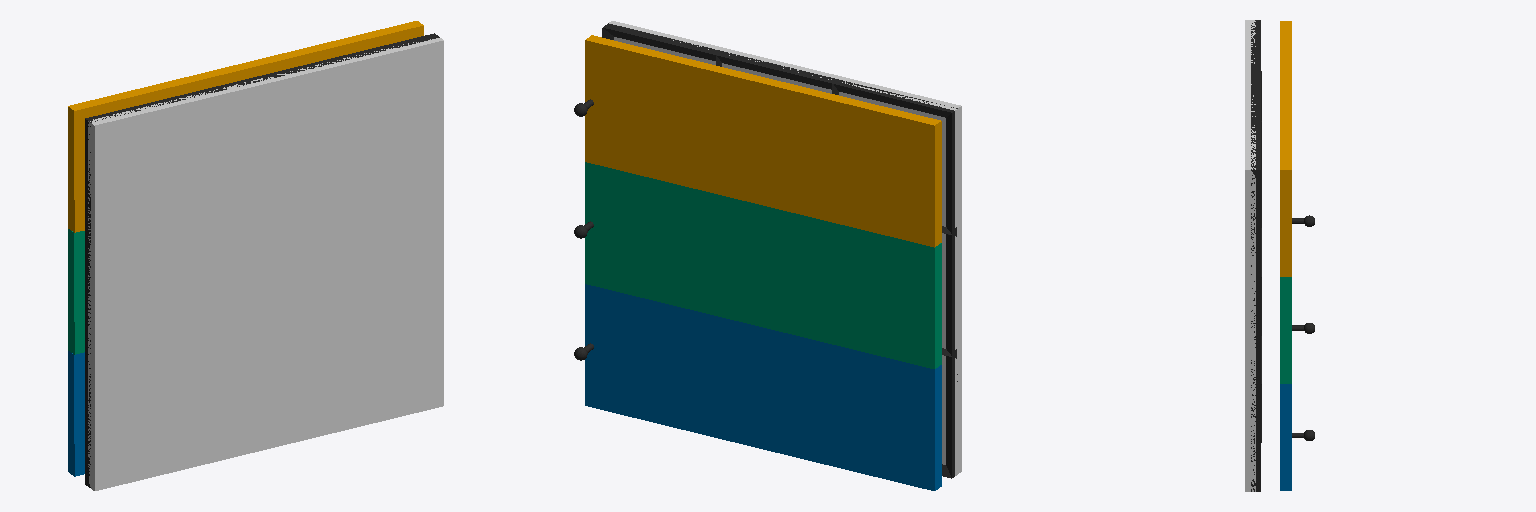
The robot description file, URDF, robot "match_board":
<?xml version="0.0" ?>
<robot name="match_board">
    <material name="GREY">
        <color rgba="0.85 0.85 0.85 1"/>
    </material>
    <material name="WOOD">
        <!-- color rgba="0.905, 0.819, 0.701, 1"-->
        <color rgba="0.866, 0.725, 0.529, 1"/>
    </material>
    <material name="RED">
        <color rgba="0.85 0 0 1"/>
    </material>
    <material name="GREEN">
        <color rgba="0 0.85 0 1"/>
    </material>
    <material name="BLUE">
        <color rgba="0 0 0.85 1"/>
    </material>
    <material name="BLACK">
        <color rgba="0.2 0.2 0.2 1"/>
    </material>

    <link name="baseLink">
        <inertial>
            <!--      tours: 30, 8-->
            <!--      major radius: 0.02, minor radius: 0.0005-->
            <!--      vis: radius=0.02, in radius=0.0005-->
            <!--      col: radius=0.02, in radius=0.0006-->
            <!--      center of mass: 2*R/pi; important-->
            <origin rpy="0 0 0" xyz="0 0 0"/>
            <mass value="0.05"/>
            <inertia ixx="0." ixy="0" ixz="0" iyy="0." iyz="0" izz="0."/>
        </inertial>
        <visual>
            <origin rpy="0 0 0" xyz="0 0 0"/>
            <geometry>
                <mesh filename="meshes/board.obj" scale="0.05 0.05 0.05"/>
            </geometry>
            <material name="GREY"/>
        </visual>
        <collision>
            <origin rpy="0 0 0" xyz="0 0 0"/>
            <geometry>
                <mesh filename="meshes/board.obj" scale="0.05 0.05 0.05"/>
            </geometry>
        </collision>
    </link>

    <link name="upper_left_0">
        <inertial>
            <origin rpy="0 0 0" xyz="0 0 0"/>
            <mass value="0.05"/>
            <inertia ixx="0." ixy="0" ixz="0" iyy="0." iyz="0" izz="0."/>
        </inertial>
        <visual>
            <origin rpy="0 0 0" xyz="0 0 0"/>
            <geometry>
                <mesh filename="meshes/board.obj" scale="0.05 0.05 0.05"/>
            </geometry>
            <material name="GREY"/>
        </visual>
        <collision>
            <origin rpy="0 0 0" xyz="0 0 0"/>
            <geometry>
                <mesh filename="meshes/board.obj" scale="0.05 0.05 0.05"/>
            </geometry>
        </collision>
    </link>

    <joint name="upper_left_joint_0" type="fixed">
        <parent link="baseLink"/>
        <child link="upper_left_0"/>
        <!--    (-sqrt(2)R/2, -sqrt(2)R/2, 0)-->
        <origin rpy="0 0 0" xyz="-0.1 0 -0.1"/>
    </joint>

    <link name="upper_1">
        <inertial>
            <origin rpy="0 0 0" xyz="0 0 0"/>
            <mass value="0.05"/>
            <inertia ixx="0." ixy="0" ixz="0" iyy="0." iyz="0" izz="0."/>
        </inertial>
        <visual>
            <origin rpy="0 0 0" xyz="0 0 0"/>
            <geometry>
                <mesh filename="meshes/board.obj" scale="0.05 0.05 0.05"/>
            </geometry>
            <material name="GREY"/>
        </visual>
        <collision>
            <origin rpy="0 0 0" xyz="0 0 0"/>
            <geometry>
                <mesh filename="meshes/board.obj" scale="0.05 0.05 0.05"/>
            </geometry>
        </collision>
    </link>

    <joint name="upper_joint_1" type="fixed">
        <parent link="baseLink"/>
        <child link="upper_1"/>
        <!--    (-sqrt(2)R/2, -sqrt(2)R/2, 0)-->
        <origin rpy="0 0 0" xyz="0 0 -0.1"/>
    </joint>

    <link name="upper_right_2">
        <inertial>
            <origin rpy="0 0 0" xyz="0 0 0"/>
            <mass value="0.05"/>
            <inertia ixx="0." ixy="0" ixz="0" iyy="0." iyz="0" izz="0."/>
        </inertial>
        <visual>
            <origin rpy="0 0 0" xyz="0 0 0"/>
            <geometry>
                <mesh filename="meshes/board.obj" scale="0.05 0.05 0.05"/>
            </geometry>
            <material name="GREY"/>
        </visual>
        <collision>
            <origin rpy="0 0 0" xyz="0 0 0"/>
            <geometry>
                <mesh filename="meshes/board.obj" scale="0.05 0.05 0.05"/>
            </geometry>
        </collision>
    </link>

    <joint name="upper_right_joint_2" type="fixed">
        <parent link="baseLink"/>
        <child link="upper_right_2"/>
        <!--    (-sqrt(2)R/2, -sqrt(2)R/2, 0)-->
        <origin rpy="0 0 0" xyz="0.1 0 -0.1"/>
    </joint>

    <link name="upper_lid_3">
        <inertial>
            <origin rpy="0 0 0" xyz="0 0 0"/>
            <mass value="0.001"/>
            <inertia ixx="0." ixy="0" ixz="0" iyy="0." iyz="0" izz="0."/>
        </inertial>
        <visual>
            <origin rpy="0 1.57 0" xyz="0 0 0"/>
            <geometry>
                <mesh filename="meshes/lid.obj" scale="0.05 0.05 0.05"/>
            </geometry>
            <material name="WOOD"/>
        </visual>
        <collision>
            <origin rpy="0 1.57 0" xyz="0 0 0"/>
            <geometry>
                <mesh filename="meshes/lid.obj" scale="0.05 0.05 0.05"/>
            </geometry>
        </collision>
    </link>

    <joint name="upper_lid_joint_3" type="prismatic">
        <parent link="upper_right_2"/>
        <child link="upper_lid_3"/>
        <!--    (-sqrt(2)R/2, -sqrt(2)R/2, 0)-->
        <axis xyz="1 0 0"/>
        <origin rpy="0 0 0" xyz="-0.1 0.03 0"/>
        <limit effort="30" velocity="1.0" lower="0" upper="0.3" />
    </joint>

    <link name="upper_handle_4">
        <inertial>
            <origin rpy="0 0 0" xyz="0 0 0"/>
            <mass value="0.001"/>
            <inertia ixx="0." ixy="0" ixz="0" iyy="0." iyz="0" izz="0."/>
        </inertial>
        <visual>
            <origin rpy="0 0 0" xyz="0 0 0"/>
            <geometry>
                <mesh filename="meshes/lid_handle.obj" scale="0.05 0.05 0.05"/>
            </geometry>
            <material name="BLACK"/>
        </visual>
        <collision>
            <origin rpy="0 0 0" xyz="0 0 0"/>
            <geometry>
                <mesh filename="meshes/lid_handle.obj" scale="0.05 0.05 0.05"/>
            </geometry>
        </collision>
    </link>

    <joint name="upper_handle_joint_4" type="fixed">
        <parent link="upper_lid_3"/>
        <child link="upper_handle_4"/>
        <!--    (-sqrt(2)R/2, -sqrt(2)R/2, 0)-->
        <origin rpy="0 0 0" xyz="0.145 0.01 0"/>
    </joint>

    <link name="upper_bar_5">
        <inertial>
            <origin rpy="0 0 0" xyz="0 0 0"/>
            <mass value="0.001"/>
            <inertia ixx="0." ixy="0" ixz="0" iyy="0." iyz="0" izz="0."/>
        </inertial>
        <visual>
            <origin rpy="0 0 0" xyz="0 0 0"/>
            <geometry>
                <mesh filename="meshes/lid_bar.obj" scale="0.05 0.05 0.05"/>
            </geometry>
            <material name="BLACK"/>
        </visual>
        <collision>
            <origin rpy="0 0 0" xyz="0 0 0"/>
            <geometry>
                <mesh filename="meshes/lid_bar.obj" scale="0.05 0.05 0.05"/>
            </geometry>
        </collision>
    </link>

    <joint name="upper_bar_joint_5" type="fixed">
        <parent link="upper_lid_3"/>
        <child link="upper_bar_5"/>
        <!--    (-sqrt(2)R/2, -sqrt(2)R/2, 0)-->
        <origin rpy="0 0 0" xyz="0.145 0.02 0"/>
    </joint>

    <link name="middle_left_6">
        <inertial>
            <!--      tours: 30, 8-->
            <!--      major radius: 0.02, minor radius: 0.0005-->
            <!--      vis: radius=0.02, in radius=0.0005-->
            <!--      col: radius=0.02, in radius=0.0006-->
            <!--      center of mass: 2*R/pi; important-->
            <origin rpy="0 0 0" xyz="0 0 0"/>
            <mass value="0.05"/>
            <inertia ixx="0." ixy="0" ixz="0" iyy="0." iyz="0" izz="0."/>
        </inertial>
        <visual>
            <origin rpy="0 0 0" xyz="0 0 0"/>
            <geometry>
                <mesh filename="meshes/board.obj" scale="0.05 0.05 0.05"/>
            </geometry>
            <material name="GREY"/>
        </visual>
        <collision>
            <origin rpy="0 0 0" xyz="0 0 0"/>
            <geometry>
                <mesh filename="meshes/board.obj" scale="0.05 0.05 0.05"/>
            </geometry>
        </collision>
    </link>

    <joint name="middle_left_joint_6" type="fixed">
        <parent link="baseLink"/>
        <child link="middle_left_6"/>
        <origin rpy="0 0 0" xyz="-0.1 0 0"/>
    </joint>

    <link name="middle_7">
        <inertial>
            <!--      tours: 30, 8-->
            <!--      major radius: 0.02, minor radius: 0.0005-->
            <!--      vis: radius=0.02, in radius=0.0005-->
            <!--      col: radius=0.02, in radius=0.0006-->
            <!--      center of mass: 2*R/pi; important-->
            <origin rpy="0 0 0" xyz="0 0 0"/>
            <mass value=".0"/>
            <inertia ixx="0." ixy="0" ixz="0" iyy="0." iyz="0" izz="0."/>
        </inertial>
    </link>

    <joint name="middle_joint_7" type="fixed">
        <parent link="baseLink"/>
        <child link="middle_7"/>
        <!--    (-R, 0, 0)-->
        <origin rpy="0 0 0" xyz="0 0 0"/>
    </joint>

    <link name="middle_right_8">
        <inertial>
            <!--      tours: 30, 8-->
            <!--      major radius: 0.02, minor radius: 0.0005-->
            <!--      vis: radius=0.02, in radius=0.0005-->
            <!--      col: radius=0.02, in radius=0.0006-->
            <!--      center of mass: 2*R/pi; important-->
            <origin rpy="0 0 0" xyz="0 0 0"/>
            <mass value="0.05"/>
            <inertia ixx="0." ixy="0" ixz="0" iyy="0." iyz="0" izz="0."/>
        </inertial>
        <visual>
            <origin rpy="0 0 0" xyz="0 0 0"/>
            <geometry>
                <mesh filename="meshes/board.obj" scale="0.05 0.05 0.05"/>
            </geometry>
            <material name="GREY"/>
        </visual>
        <collision>
            <origin rpy="0 0 0" xyz="0 0 0"/>
            <geometry>
                <mesh filename="meshes/board.obj" scale="0.05 0.05 0.05"/>
            </geometry>
        </collision>
    </link>

    <joint name="middle_right_joint_8" type="fixed">
        <parent link="baseLink"/>
        <child link="middle_right_8"/>
        <!--    (-R, 0, 0)-->
        <origin rpy="0 0 0" xyz="0.1 0 0"/>
    </joint>

    <link name="middle_lid_9">
        <inertial>
            <origin rpy="0 0 0" xyz="0 0 0"/>
            <mass value="0.001"/>
            <inertia ixx="0." ixy="0" ixz="0" iyy="0." iyz="0" izz="0."/>
        </inertial>
        <visual>
            <origin rpy="0 1.57 0" xyz="0 0 0"/>
            <geometry>
                <mesh filename="meshes/lid.obj" scale="0.05 0.05 0.05"/>
            </geometry>
            <material name="WOOD"/>
        </visual>
        <collision>
            <origin rpy="0 1.57 0" xyz="0 0 0"/>
            <geometry>
                <mesh filename="meshes/lid.obj" scale="0.05 0.05 0.05"/>
            </geometry>
        </collision>
    </link>

    <joint name="middle_lid_joint_9" type="prismatic">
        <parent link="middle_right_8"/>
        <child link="middle_lid_9"/>
        <!--    (-sqrt(2)R/2, -sqrt(2)R/2, 0)-->
        <axis xyz="1 0 0"/>
        <origin rpy="0 0 0" xyz="-0.1 0.03 0"/>
        <limit effort="30" velocity="1.0" lower="0" upper="0.3" />
    </joint>

    <link name="middle_handle_10">
        <inertial>
            <origin rpy="0 0 0" xyz="0 0 0"/>
            <mass value="0.001"/>
            <inertia ixx="0." ixy="0" ixz="0" iyy="0." iyz="0" izz="0."/>
        </inertial>
        <visual>
            <origin rpy="0 0 0" xyz="0 0 0"/>
            <geometry>
                <mesh filename="meshes/lid_handle.obj" scale="0.05 0.05 0.05"/>
            </geometry>
            <material name="BLACK"/>
        </visual>
        <collision>
            <origin rpy="0 0 0" xyz="0 0 0"/>
            <geometry>
                <mesh filename="meshes/lid_handle.obj" scale="0.05 0.05 0.05"/>
            </geometry>
        </collision>
    </link>

    <joint name="middle_handle_joint_10" type="fixed">
        <parent link="middle_lid_9"/>
        <child link="middle_handle_10"/>
        <!--    (-sqrt(2)R/2, -sqrt(2)R/2, 0)-->
        <origin rpy="0 0 0" xyz="0.145 0.01 0"/>
    </joint>

    <link name="middle_bar_11">
        <inertial>
            <origin rpy="0 0 0" xyz="0 0 0"/>
            <mass value="0.001"/>
            <inertia ixx="0." ixy="0" ixz="0" iyy="0." iyz="0" izz="0."/>
        </inertial>
        <visual>
            <origin rpy="0 0 0" xyz="0 0 0"/>
            <geometry>
                <mesh filename="meshes/lid_bar.obj" scale="0.05 0.05 0.05"/>
            </geometry>
            <material name="BLACK"/>
        </visual>
        <collision>
            <origin rpy="0 0 0" xyz="0 0 0"/>
            <geometry>
                <mesh filename="meshes/lid_bar.obj" scale="0.05 0.05 0.05"/>
            </geometry>
        </collision>
    </link>

    <joint name="middler_bar_joint_11" type="fixed">
        <parent link="middle_lid_9"/>
        <child link="middle_bar_11"/>
        <!--    (-sqrt(2)R/2, -sqrt(2)R/2, 0)-->
        <origin rpy="0 0 0" xyz="0.145 0.02 0"/>
    </joint>

    <link name="lower_left_12">
        <inertial>
            <origin rpy="0 0 0" xyz="0 0 0"/>
            <mass value="0.05"/>
            <inertia ixx="0." ixy="0" ixz="0" iyy="0." iyz="0" izz="0."/>
        </inertial>
        <visual>
            <origin rpy="0 0 0" xyz="0 0 0"/>
            <geometry>
                <mesh filename="meshes/board.obj" scale="0.05 0.05 0.05"/>
            </geometry>
            <material name="GREY"/>
        </visual>
        <collision>
            <origin rpy="0 0 0" xyz="0 0 0"/>
            <geometry>
                <mesh filename="meshes/board.obj" scale="0.05 0.05 0.05"/>
            </geometry>
        </collision>
    </link>

    <joint name="lower_left_joint_12" type="fixed">
        <parent link="baseLink"/>
        <child link="lower_left_12"/>
        <!--    (-sqrt(2)R/2, -sqrt(2)R/2, 0)-->
        <origin rpy="0 0 0" xyz="-0.1 0 0.1"/>
    </joint>

    <link name="lower_13">
        <inertial>

            <origin rpy="0 0 0" xyz="0 0 0"/>
            <mass value="0.05"/>
            <inertia ixx="0." ixy="0" ixz="0" iyy="0." iyz="0" izz="0."/>
        </inertial>
        <visual>
            <origin rpy="0 0 0" xyz="0 0 0"/>
            <geometry>
                <mesh filename="meshes/board.obj" scale="0.05 0.05 0.05"/>
            </geometry>
            <material name="GREY"/>
        </visual>
        <collision>
            <origin rpy="0 0 0" xyz="0 0 0"/>
            <geometry>
                <mesh filename="meshes/board.obj" scale="0.05 0.05 0.05"/>
            </geometry>
        </collision>
    </link>

    <joint name="lower_joint_13" type="fixed">
        <parent link="baseLink"/>
        <child link="lower_13"/>
        <!--    (-sqrt(2)R/2, -sqrt(2)R/2, 0)-->
        <origin rpy="0 0 0" xyz="0 0 0.1"/>
    </joint>

    <link name="lower_right_14">
        <inertial>
            <origin rpy="0 0 0" xyz="0 0 0"/>
            <mass value="0.05"/>
            <inertia ixx="0." ixy="0" ixz="0" iyy="0." iyz="0" izz="0."/>
        </inertial>
        <visual>
            <origin rpy="0 0 0" xyz="0 0 0"/>
            <geometry>
                <mesh filename="meshes/board.obj" scale="0.05 0.05 0.05"/>
            </geometry>
            <material name="GREY"/>
        </visual>
        <collision>
            <origin rpy="0 0 0" xyz="0 0 0"/>
            <geometry>
                <mesh filename="meshes/board.obj" scale="0.05 0.05 0.05"/>
            </geometry>
        </collision>
    </link>

    <joint name="lower_right_joint_14" type="fixed">
        <parent link="baseLink"/>
        <child link="lower_right_14"/>
        <!--    (-sqrt(2)R/2, -sqrt(2)R/2, 0)-->
        <origin rpy="0 0 0" xyz="0.1 0 0.1"/>
    </joint>

    <link name="lower_lid_15">
        <inertial>
            <origin rpy="0 0 0" xyz="0 0 0"/>
            <mass value="0.001"/>
            <inertia ixx="0." ixy="0" ixz="0" iyy="0." iyz="0" izz="0."/>
        </inertial>
        <visual>
            <origin rpy="0 1.57 0" xyz="0 0 0"/>
            <geometry>
                <mesh filename="meshes/lid.obj" scale="0.05 0.05 0.05"/>
            </geometry>
            <material name="WOOD"/>
        </visual>
        <collision>
            <origin rpy="0 1.57 0" xyz="0 0 0"/>
            <geometry>
                <mesh filename="meshes/lid.obj" scale="0.05 0.05 0.05"/>
            </geometry>
        </collision>
    </link>

    <joint name="lower_lid_joint_15" type="prismatic">
        <parent link="lower_right_14"/>
        <child link="lower_lid_15"/>
        <!--    (-sqrt(2)R/2, -sqrt(2)R/2, 0)-->
        <axis xyz="1 0 0"/>
        <origin rpy="0 0 0" xyz="-0.1 0.03 0"/>
        <limit effort="30" velocity="1.0" lower="0" upper="0.3" />
    </joint>

    <link name="lower_handle_16">
        <inertial>
            <origin rpy="0 0 0" xyz="0 0 0"/>
            <mass value="0.001"/>
            <inertia ixx="0." ixy="0" ixz="0" iyy="0." iyz="0" izz="0."/>
        </inertial>
        <visual>
            <origin rpy="0 0 0" xyz="0 0 0"/>
            <geometry>
                <mesh filename="meshes/lid_handle.obj" scale="0.05 0.05 0.05"/>
            </geometry>
            <material name="BLACK"/>
        </visual>
        <collision>
            <origin rpy="0 0 0" xyz="0 0 0"/>
            <geometry>
                <mesh filename="meshes/lid_handle.obj" scale="0.05 0.05 0.05"/>
            </geometry>
        </collision>
    </link>

    <joint name="lower_handle_joint_16" type="fixed">
        <parent link="lower_lid_15"/>
        <child link="lower_handle_16"/>
        <!--    (-sqrt(2)R/2, -sqrt(2)R/2, 0)-->
        <origin rpy="0 0 0" xyz="0.145 0.01 0"/>
    </joint>

    <link name="lower_bar_17">
        <inertial>
            <origin rpy="0 0 0" xyz="0 0 0"/>
            <mass value="0.001"/>
            <inertia ixx="0." ixy="0" ixz="0" iyy="0." iyz="0" izz="0."/>
        </inertial>
        <visual>
            <origin rpy="0 0 0" xyz="0 0 0"/>
            <geometry>
                <mesh filename="meshes/lid_bar.obj" scale="0.05 0.05 0.05"/>
            </geometry>
            <material name="BLACK"/>
        </visual>
        <collision>
            <origin rpy="0 0 0" xyz="0 0 0"/>
            <geometry>
                <mesh filename="meshes/lid_bar.obj" scale="0.05 0.05 0.05"/>
            </geometry>
        </collision>
    </link>

    <joint name="lower_bar_joint_17" type="fixed">
        <parent link="lower_lid_15"/>
        <child link="lower_bar_17"/>
        <!--    (-sqrt(2)R/2, -sqrt(2)R/2, 0)-->
        <origin rpy="0 0 0" xyz="0.145 0.02 0"/>
    </joint>

    <link name="border_18">
        <inertial>
            <origin rpy="0 0 0" xyz="0 0 0"/>
            <mass value="0.001"/>
            <inertia ixx="0." ixy="0" ixz="0" iyy="0." iyz="0" izz="0."/>
        </inertial>
        <visual>
            <origin rpy="0 0 0" xyz="0 0 0"/>
            <geometry>
                <mesh filename="meshes/border.obj" scale="0.05 0.05 0.05"/>
            </geometry>
            <material name="BLACK" />
        </visual>
        <collision>
            <origin rpy="0 0 0" xyz="0 0 0"/>
            <geometry>
                <mesh filename="meshes/border.obj" scale="0.05 0.05 0.05"/>
            </geometry>
        </collision>
    </link>

    <joint name="border_joint_18" type="fixed">
        <parent link="baseLink"/>
        <child link="border_18"/>
        <!--    (-sqrt(2)R/2, -sqrt(2)R/2, 0)-->
        <origin rpy="0 0 0" xyz="0. 0 0"/>
    </joint>
</robot>

--- What the picture shows (computed from the rendered views, not written in the file) ---
Views: 3 orthographic renders of the robot side by side, from view 1: azimuth 30°, elevation 25°; view 2: azimuth 150°, elevation 25°; view 3: azimuth 270°, elevation 25°.
Robot: match_board — 20 links, 19 joints (3 prismatic, 16 fixed); root link baseLink; default pose: all joints at 0.
Links seen in each view (by area): view 1: lower_left_12, middle_left_6, upper_left_0, lower_13, lower_right_14, baseLink, upper_1, upper_right_2, middle_right_8, lower_lid_15, border_18, upper_lid_3 (+1 smaller); view 2: lower_lid_15, middle_lid_9, upper_lid_3, border_18, lower_left_12, middle_left_6, upper_left_0, lower_13, lower_right_14; view 3: border_18, lower_lid_15, lower_right_14, upper_lid_3, middle_lid_9, middle_right_8, upper_right_2.
Boxes of the visible links, <box> form: lower_left_12: <box>88,92,210,246</box>; middle_left_6: <box>88,219,210,368</box>; upper_left_0: <box>88,341,210,490</box>; lower_13: <box>206,64,327,218</box>; lower_right_14: <box>322,38,443,190</box>; baseLink: <box>211,191,327,340</box>; upper_1: <box>211,313,327,462</box>; upper_right_2: <box>328,284,443,433</box>; middle_right_8: <box>328,162,443,311</box>; lower_lid_15: <box>68,21,423,232</box>; border_18: <box>85,33,439,487</box>; upper_lid_3: <box>68,351,84,476</box>; lower_lid_15: <box>585,35,941,247</box>; middle_lid_9: <box>585,162,941,368</box>; upper_lid_3: <box>585,284,941,490</box>; border_18: <box>602,23,957,478</box>; lower_left_12: <box>839,77,961,230</box>; middle_left_6: <box>942,228,961,352</box>; upper_left_0: <box>942,350,961,475</box>; lower_13: <box>722,49,844,93</box>; lower_right_14: <box>609,21,727,64</box>; border_18: <box>1251,20,1261,491</box>; lower_lid_15: <box>1280,21,1291,276</box>; lower_right_14: <box>1245,120,1255,276</box>; upper_lid_3: <box>1280,384,1291,490</box>; middle_lid_9: <box>1280,277,1291,383</box>; middle_right_8: <box>1245,277,1255,383</box>; upper_right_2: <box>1245,384,1255,491</box>.
Bounding box of the posed robot: 0.3001 × 0.06 × 0.3002 m (x, y, z).
19 mesh visuals loaded from 5 distinct referenced files (5 OBJ).